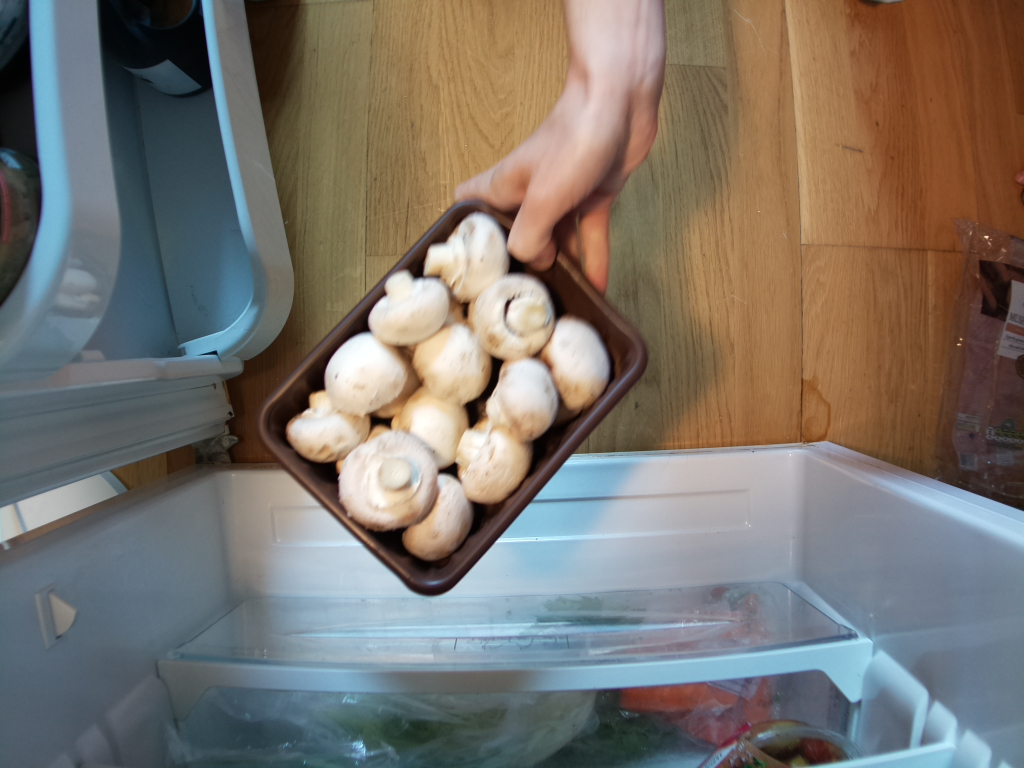mushrooms: (250, 188, 652, 597)
